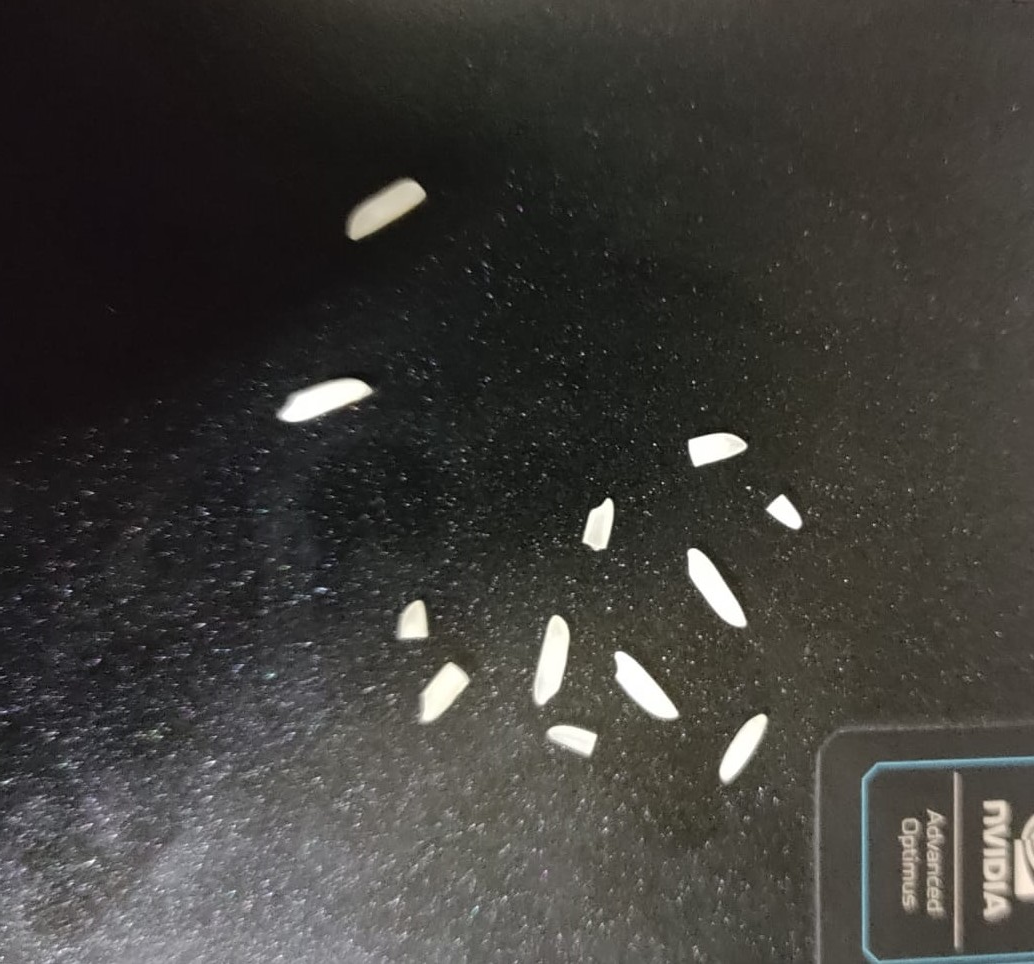broken_grain: (701, 514, 787, 585), (461, 255, 505, 334), (527, 383, 600, 430), (773, 405, 817, 459), (642, 558, 693, 603), (525, 208, 572, 255)
complete_grain: (188, 558, 264, 649), (581, 260, 677, 330), (689, 323, 774, 401), (398, 610, 459, 715), (760, 241, 847, 305), (656, 425, 760, 475)
